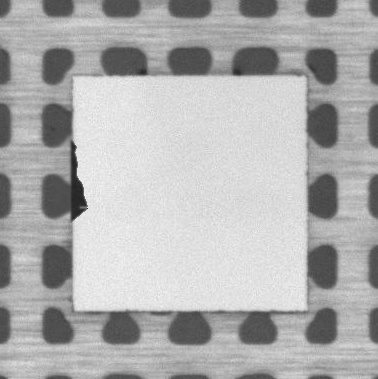DIE_BROKEN: (68, 136, 90, 223)
